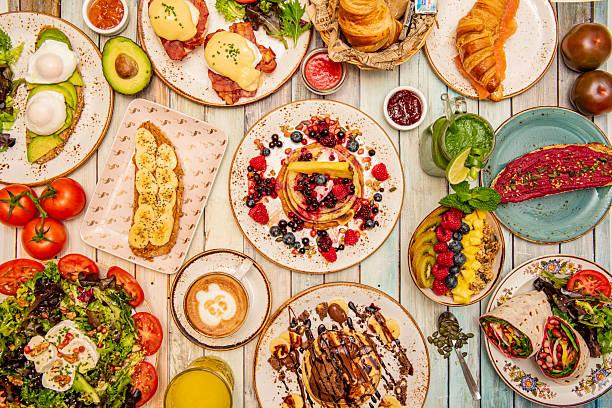Braised Crucian Carp: (228, 99, 396, 275), (80, 98, 227, 274), (4, 254, 161, 407), (250, 282, 424, 407), (1, 10, 112, 188), (482, 255, 609, 406), (138, 0, 305, 109), (483, 106, 608, 244), (422, 0, 558, 102), (408, 204, 504, 305)
